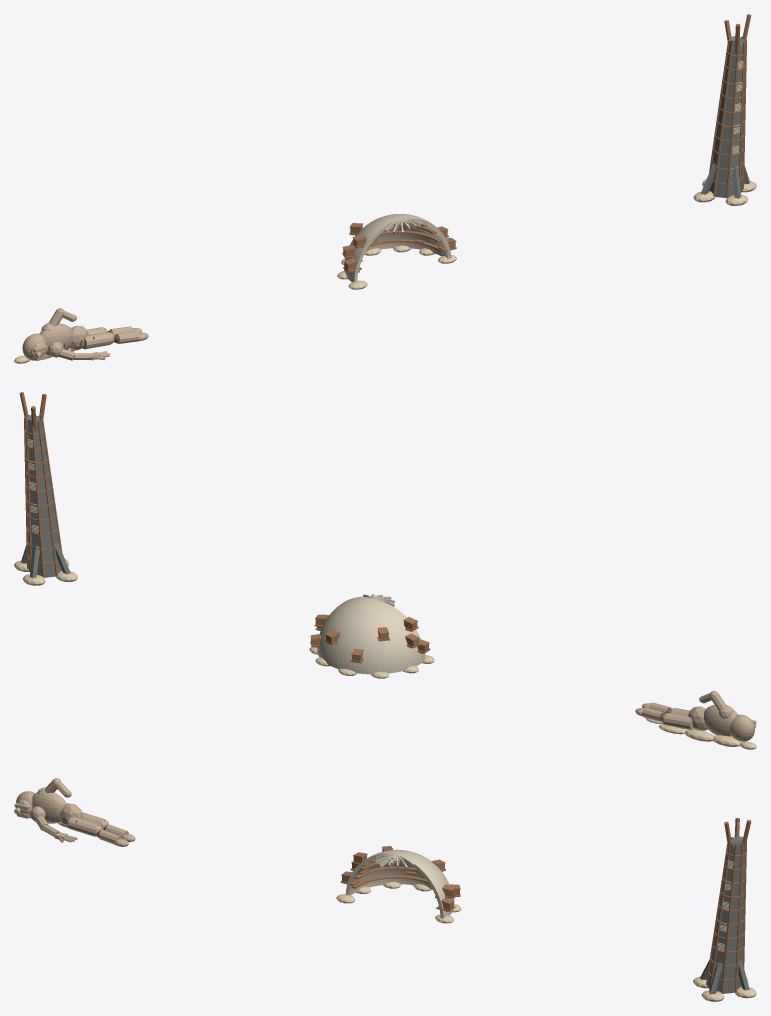
The model's file is giants_v1.glb.
3 views of the same model, one above another, from view 1: azimuth 30°, elevation 25°; view 2: azimuth 150°, elevation 25°; view 3: azimuth 330°, elevation 25° (orthographic).
Parts seen in each view (by area): view 1: giant_tower, giant_dome, giant_colossus; view 2: giant_dome, giant_tower, giant_colossus; view 3: giant_tower, giant_dome, giant_colossus.
Boxes of the visible parts, x1=… form: giant_tower: x1=693, y1=14, x2=756, y2=205; giant_dome: x1=337, y1=214, x2=456, y2=289; giant_colossus: x1=14, y1=308, x2=148, y2=363; giant_dome: x1=309, y1=594, x2=434, y2=678; giant_tower: x1=14, y1=392, x2=77, y2=585; giant_colossus: x1=635, y1=690, x2=756, y2=749; giant_tower: x1=693, y1=818, x2=756, y2=1001; giant_dome: x1=336, y1=846, x2=461, y2=923; giant_colossus: x1=14, y1=778, x2=135, y2=846.
Size of the model in its own units: 908 by 207 by 106.
